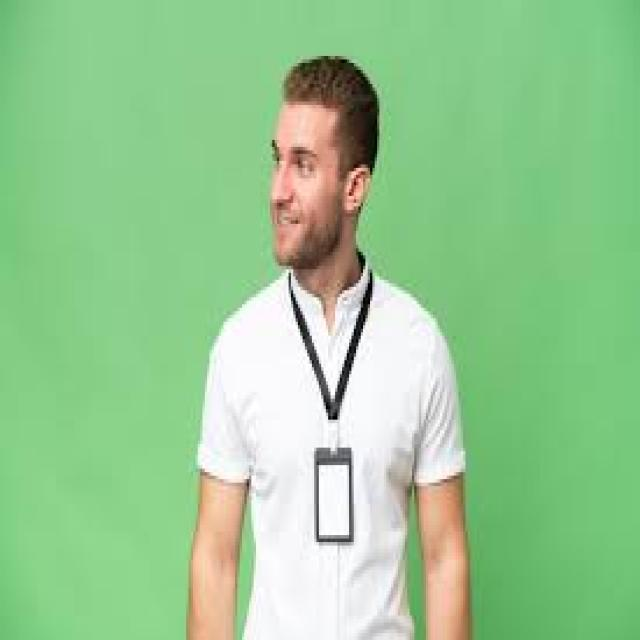id_card: (283, 284, 381, 548)
